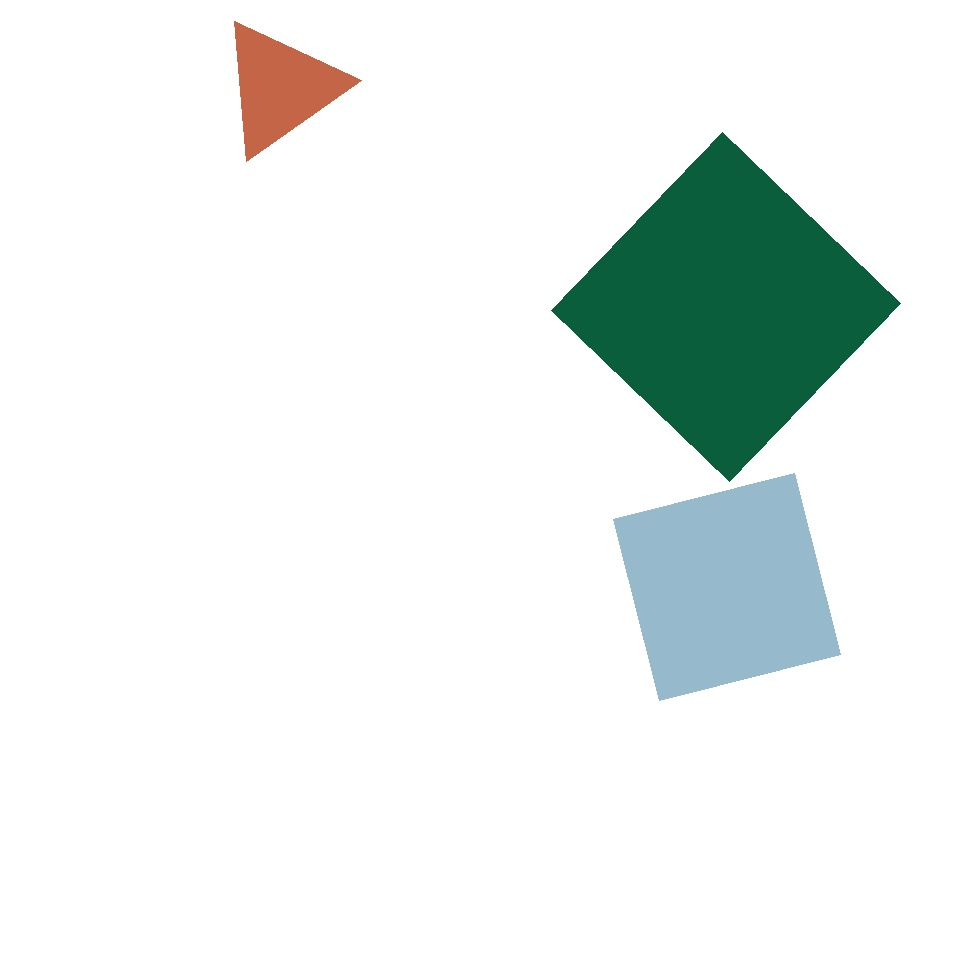circle: (259, 202, 474, 439), (330, 492, 486, 638), (218, 18, 344, 158), (478, 432, 562, 507)
square: (552, 132, 900, 481), (72, 177, 298, 404), (614, 474, 840, 700)
triangle: (23, 406, 362, 745), (152, 680, 250, 779)
